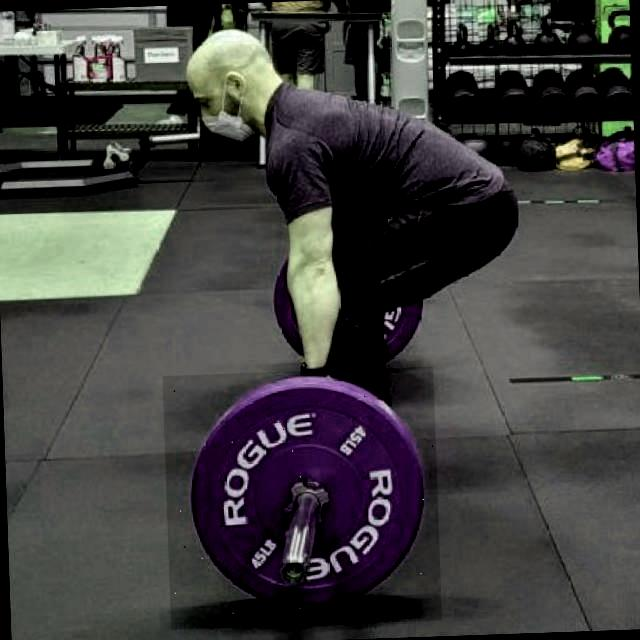barbell: (162, 367, 442, 630)
